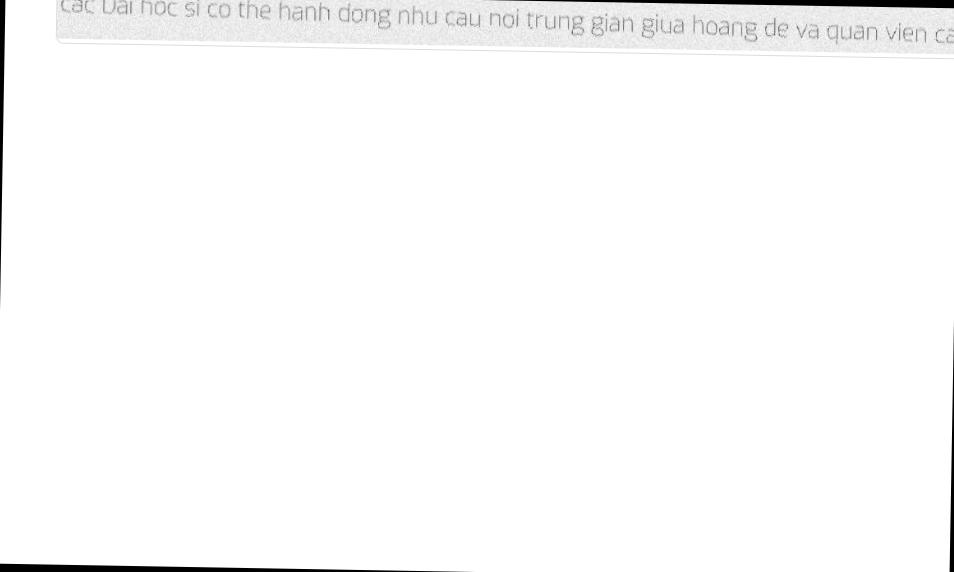text: (57, 0, 954, 49)
